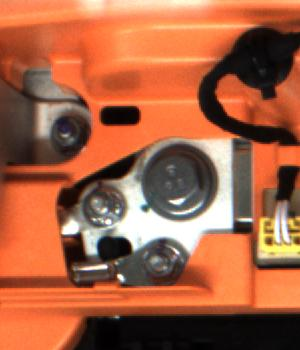nut_b: (136, 144, 220, 221)
